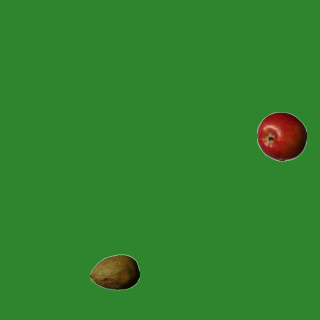Apple Braeburn: (256, 111, 306, 161)
Papaya: (89, 247, 139, 297)
